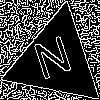N: (30, 35, 78, 90)
